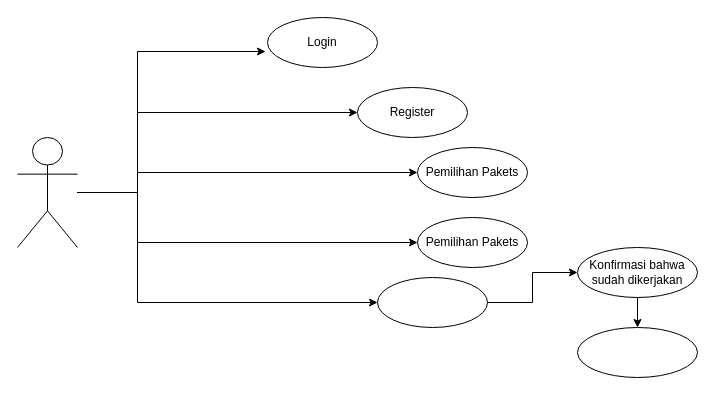
This 715x395 diagram has some shape labels left out. The shapes that lost their labels are listed below. From the top down, each one's centre as x and y in pixels, then its label:
At pixel 47 192: "Users".
At pixel 432 302: "Pembayaran".
At pixel 637 352: "Rating ke Pekerja".
